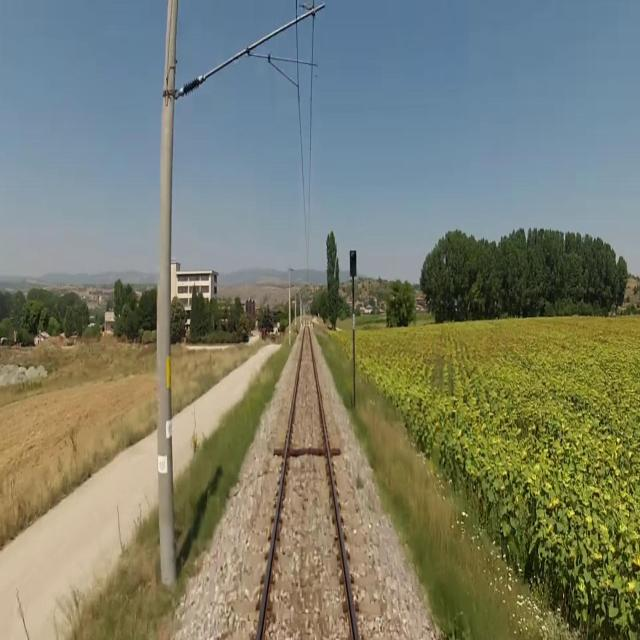rail-track: (260, 325, 353, 639)
